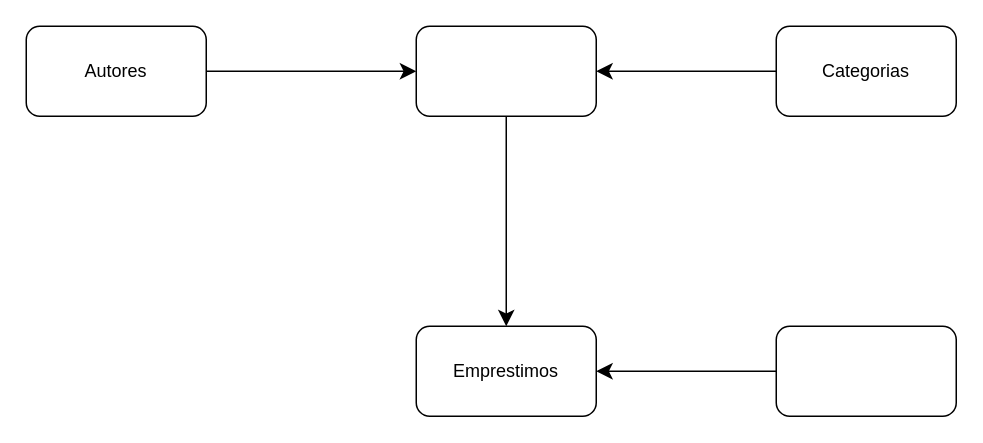
Some shapes in this 983 by 443 pixel diagram are drawn without their labels. Here are the shapes that lost their labels. From the top down, the box of each, then its label:
(415, 25, 596, 116): Livros
(775, 325, 956, 416): Alunos
